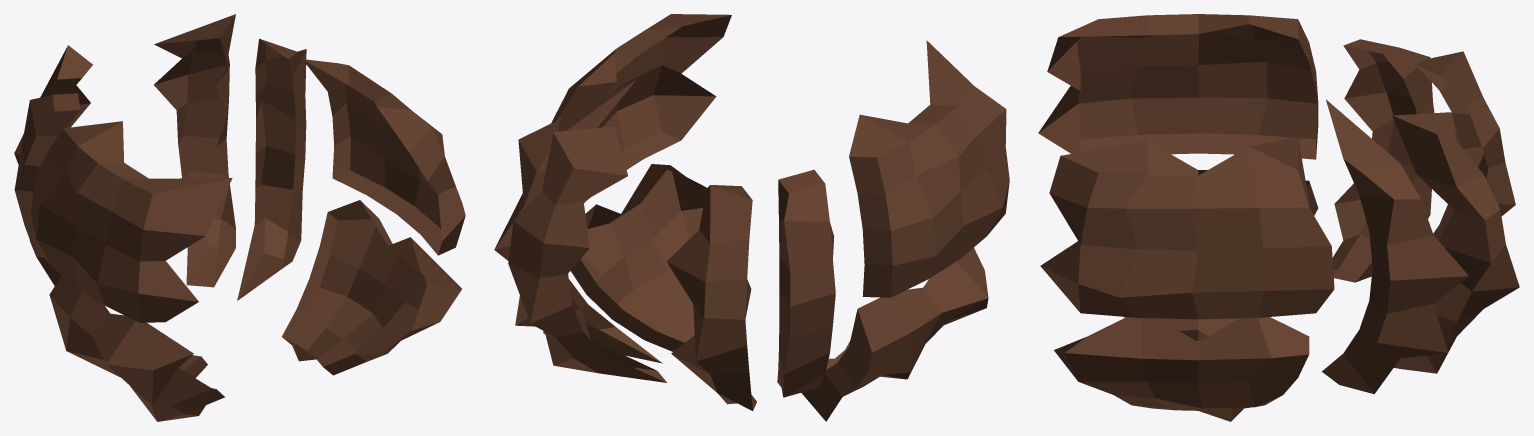
Rendered from Sphenorh_Carapace.fbx.
The picture shows the model from 3 angles, left to right: view 1: azimuth 30°, elevation 25°; view 2: azimuth 150°, elevation 25°; view 3: azimuth 270°, elevation 25°; orthographic projection. The views are drawn at different scales.
Visible parts, largest first — view 1: Sphere.001; view 2: Sphere.001; view 3: Sphere.001.
Boxes of the visible parts, left/top/right/bottom form: Sphere.001: left=14, top=14, right=465, bottom=421; Sphere.001: left=494, top=14, right=1009, bottom=421; Sphere.001: left=1038, top=14, right=1519, bottom=421.
Bounding box in the file's own units: 92.41 × 74.56 × 96.13.
1 material, 1 textured.
